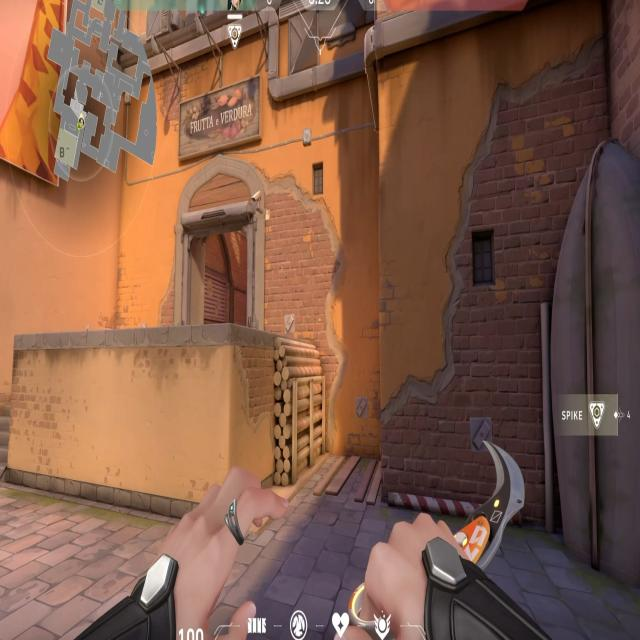B_Cubby: (222, 305, 351, 506)
